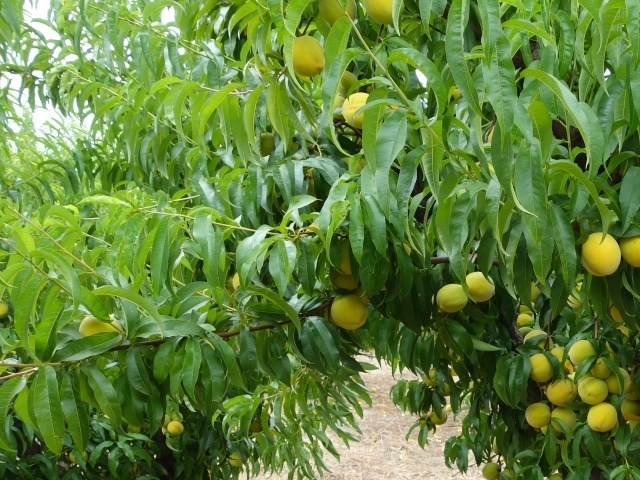peach: (576, 230, 625, 280), (286, 33, 329, 81), (74, 310, 126, 347), (327, 292, 372, 332), (341, 89, 380, 127), (430, 281, 470, 318), (461, 269, 498, 306), (545, 374, 582, 411), (585, 401, 621, 435), (613, 228, 640, 272), (320, 1, 357, 33), (523, 350, 556, 385), (574, 374, 609, 406), (326, 263, 360, 295), (336, 68, 365, 104), (361, 1, 407, 23), (565, 338, 597, 368), (523, 402, 555, 432), (546, 404, 580, 432), (604, 366, 634, 397), (546, 345, 574, 371), (618, 392, 640, 423), (480, 458, 503, 480), (166, 418, 186, 440)
